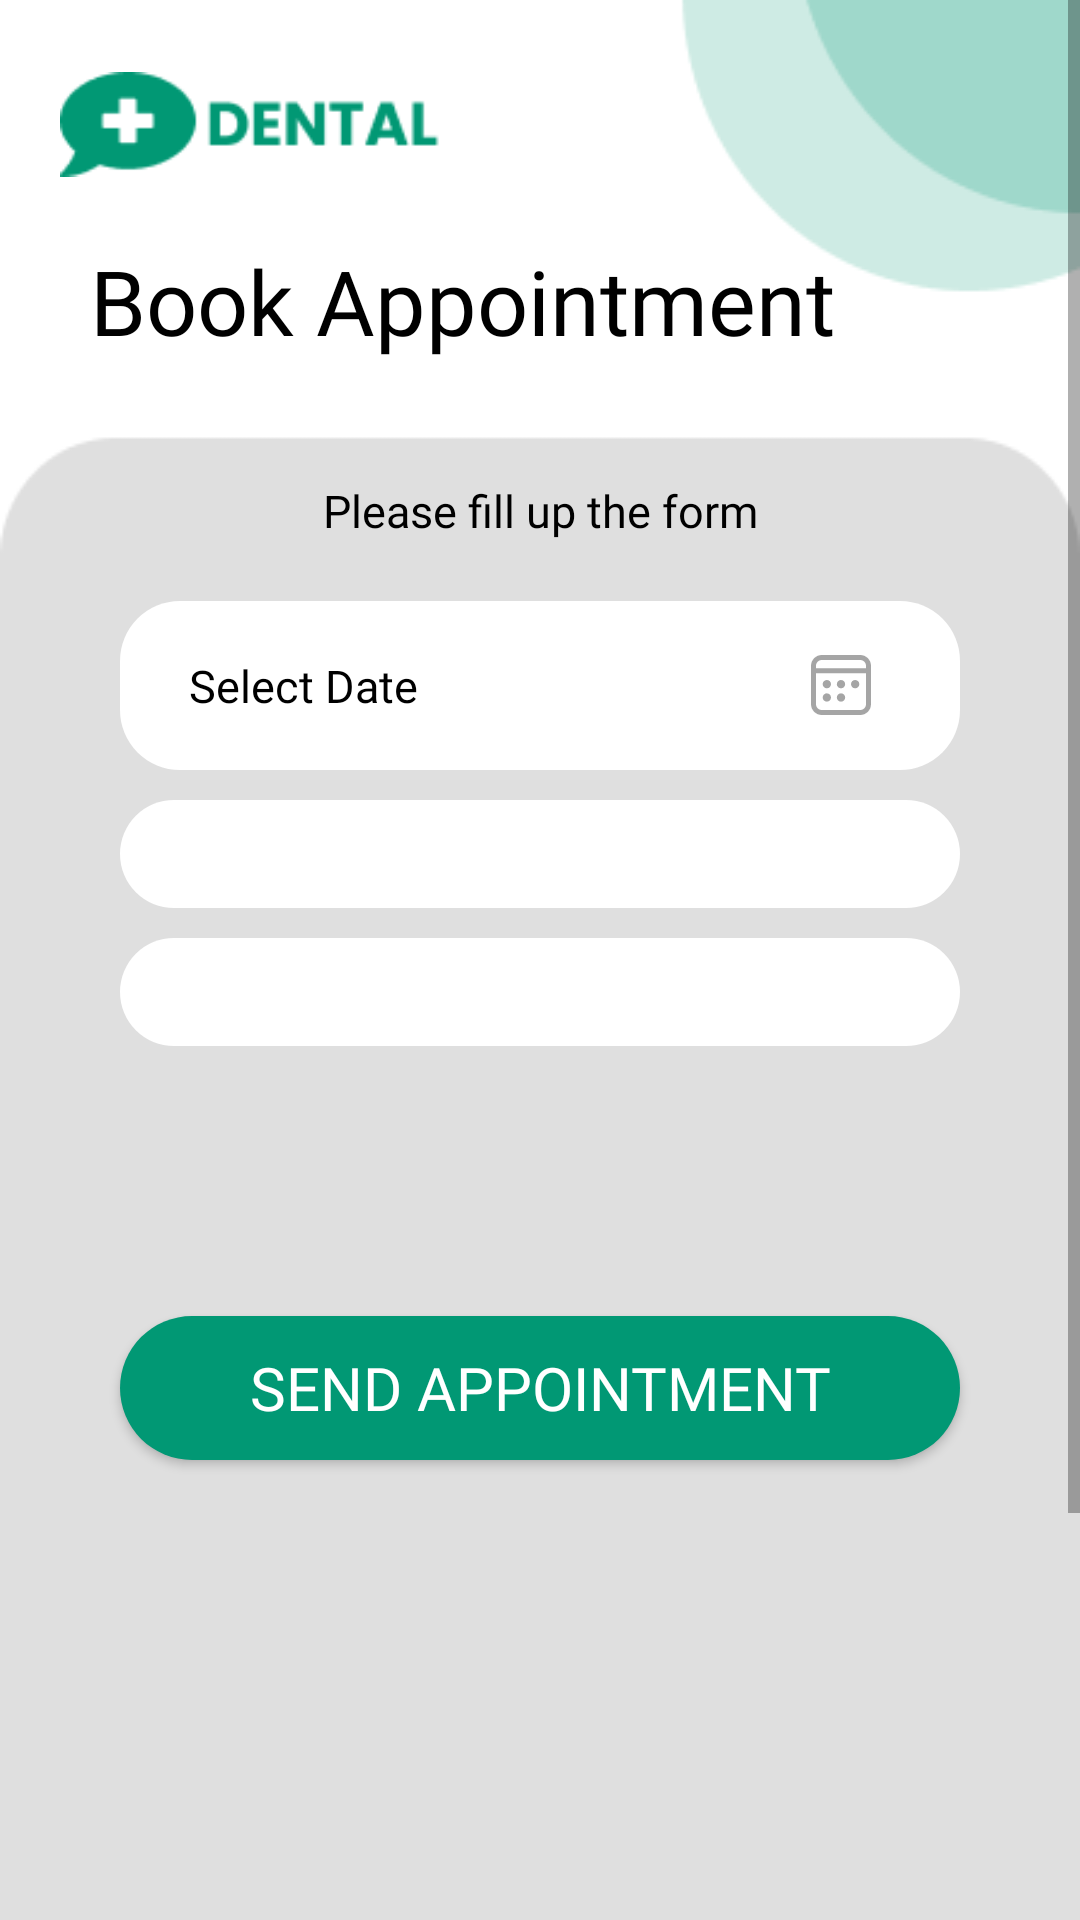

Point at icon controls on the screen. Image size 1080px x 1920px, points as (x,y).
calendar: (841,685)
